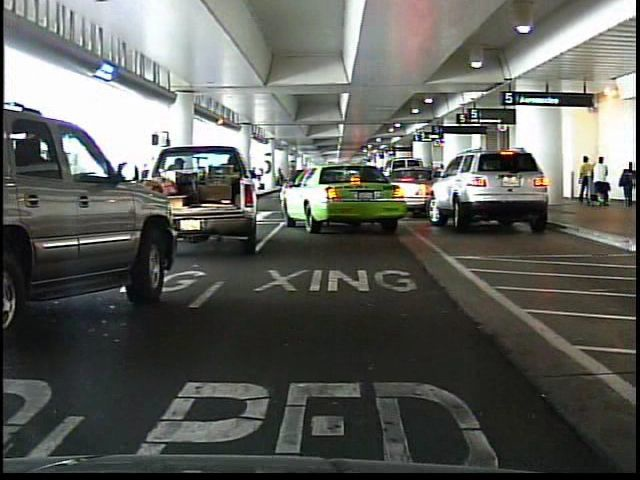person: (593, 153, 612, 209), (619, 159, 636, 210), (577, 156, 594, 205)
